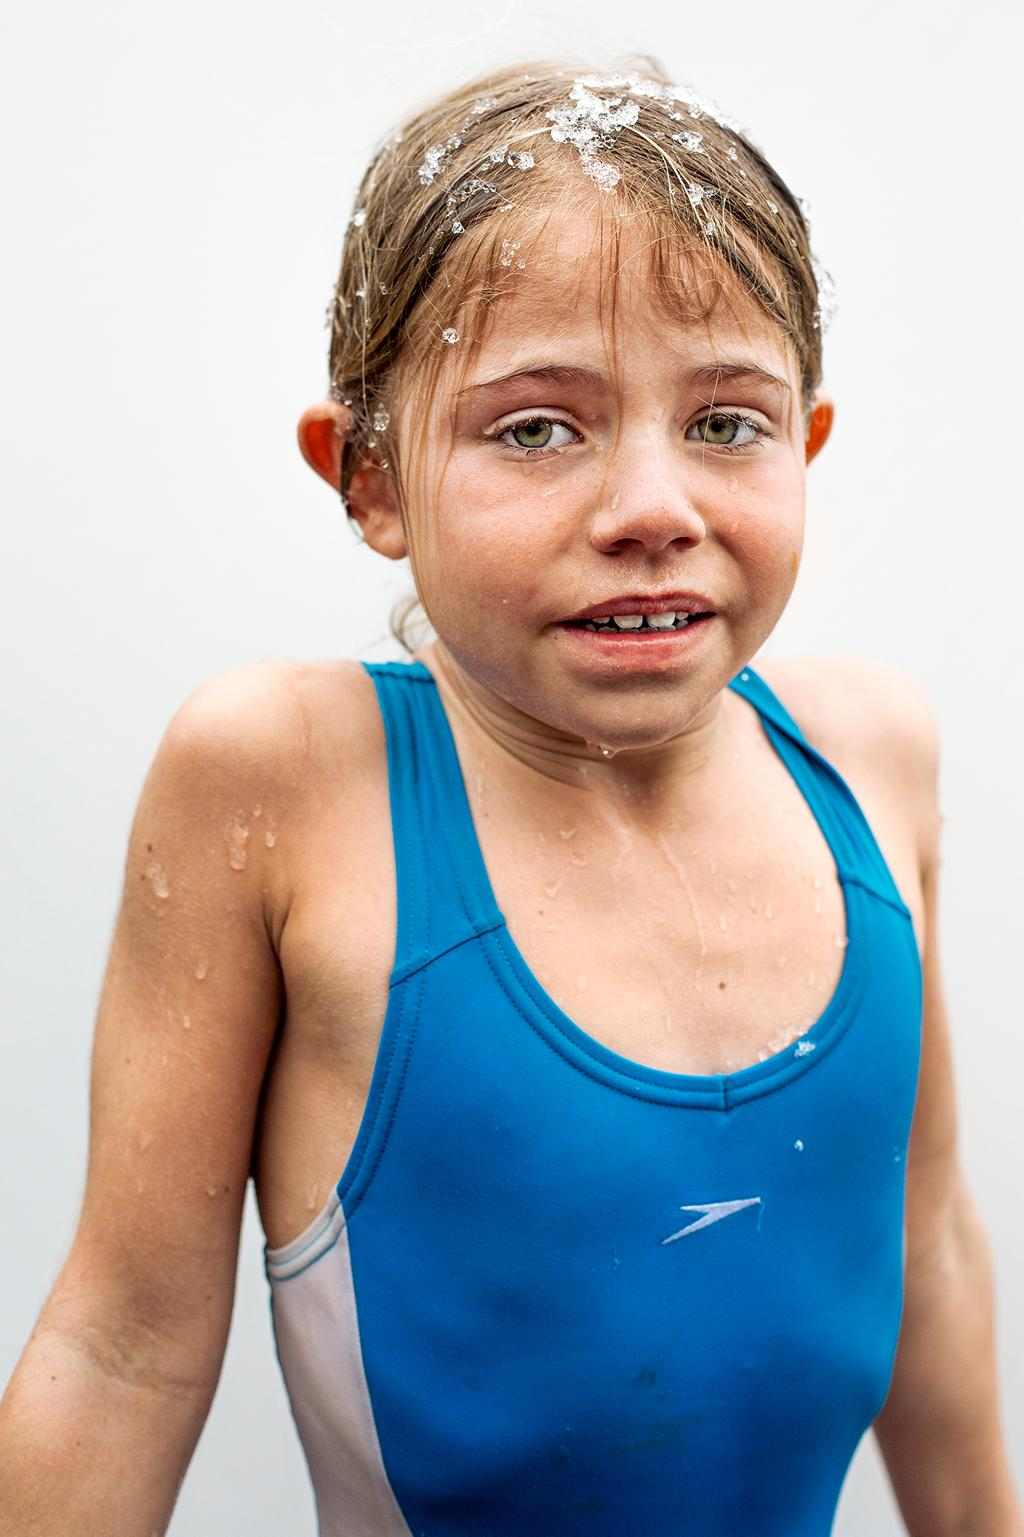face: (390, 228, 801, 729)
